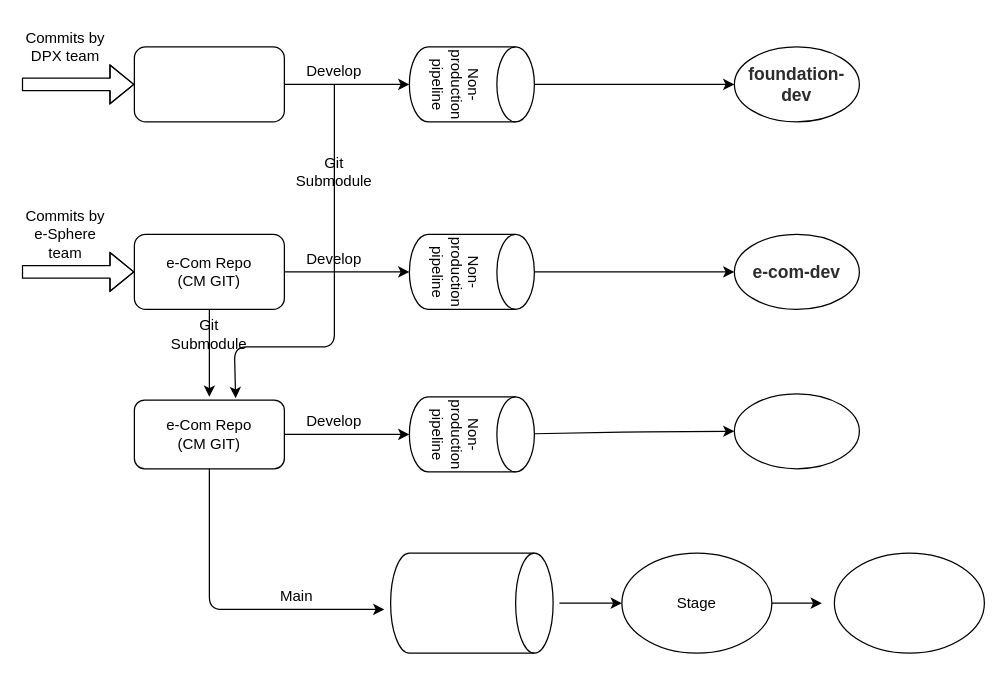
Image size: 1006x675. Some labels were removed from this diagram. The centre of each missing label's shape, as x and y in pixels:
"Foundation Repo (CM GIT)" belongs at (x=208, y=84).
"integration-dev" belongs at (x=796, y=430).
"Production" belongs at (x=908, y=602).
"Production pipeline" belongs at (x=471, y=602).
